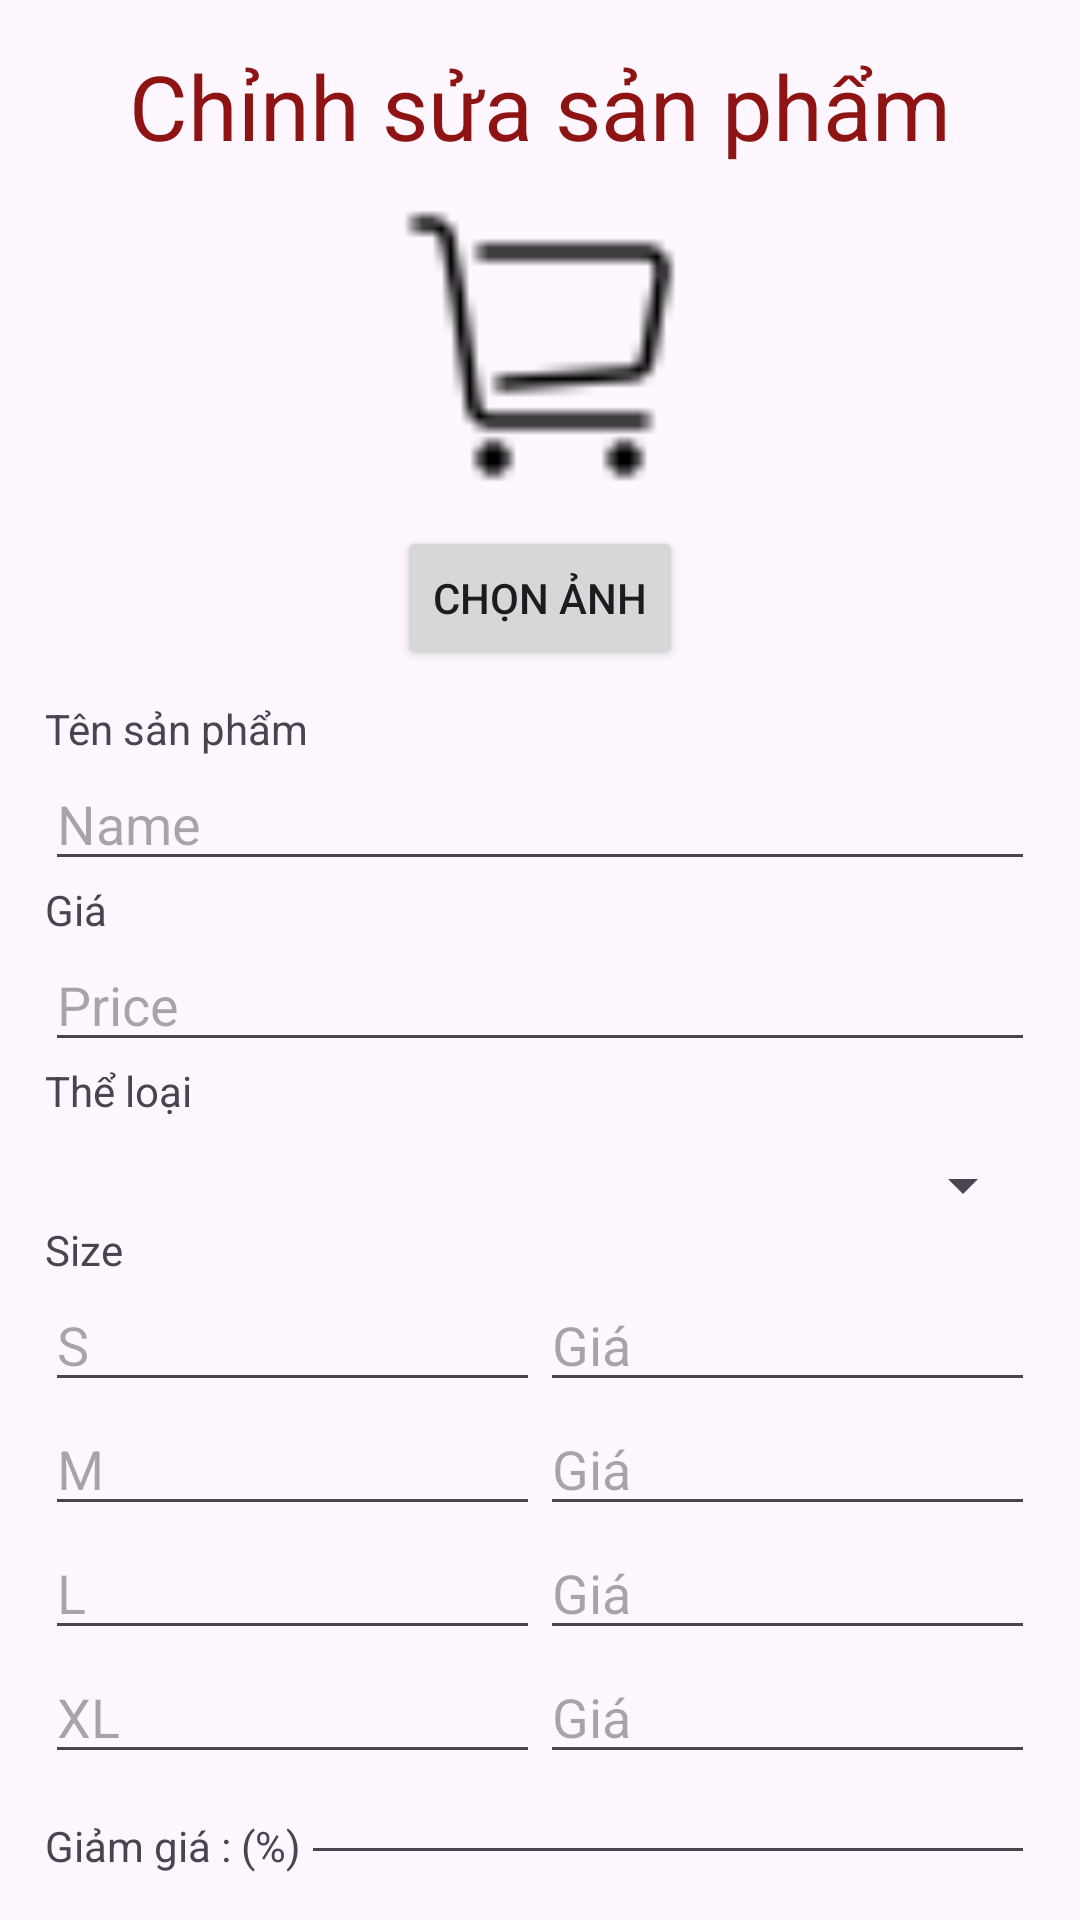

Named icons in this screenshot (1080 x 1920) and their bounding boxes, (left=x1, top=y1, right=x2, bottom=y2):
cart: (left=406, top=211, right=675, bottom=481)
